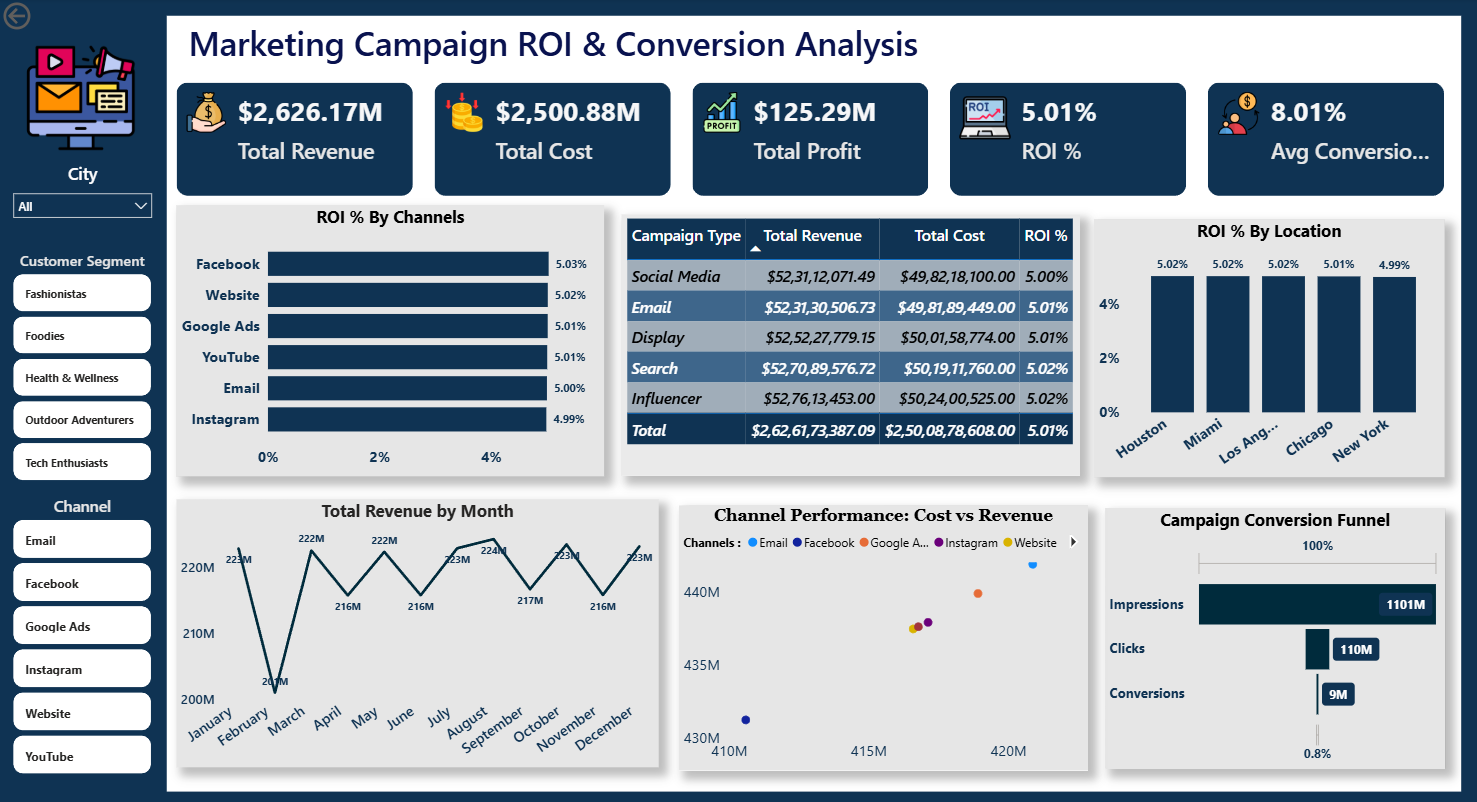

The page's visual inventory and layout, read from the dashboard file:
{"tool":"powerbi","page":{"name":"Page 1","canvas":[1650,900],"ordinal":0},"visuals":[{"type":"shape","box":[187.1,20,1441.4,864.3],"z":0},{"type":"cardVisual","fields":{"Data":["public fact_marketing.Total Revenue","public fact_marketing.Total Cost","public fact_marketing.Total Profit","public fact_marketing.ROI %","public fact_marketing.Avg Conversion Rate %"]},"box":[166,82,1476,150],"z":1000},{"type":"actionButton","box":[0,0,100,40],"z":2000},{"type":"advancedSlicerVisual","title":"Channel","fields":{"Values":["public dim_channel.channel_used"]},"box":[11.7,553.3,163.3,320],"z":3000},{"type":"textbox","box":[42.5,20,1147.5,60],"z":4000},{"type":"group","id":"g1","title":"Group 1","box":[198.4,231.7,475.7,301.4],"z":5000,"group":"g2"},{"type":"clusteredBarChart","title":"ROI % By Channels","fields":{"Category":["public dim_channel.channel_used"],"Y":["public fact_marketing.ROI % for channel"]},"box":[198.4,231.7,475.7,301.4],"z":5000,"group":"g1"},{"type":"advancedSlicerVisual","title":"Customer Segment","fields":{"Values":["public dim_customer_segment.customer_segment"]},"box":[11.7,281.7,163.3,261.7],"z":5000},{"type":"group","id":"g2","title":"Group 7","box":[197.8,231.7,1412,628.9],"z":6000},{"type":"group","id":"g3","title":"Group 2","box":[197.8,558.9,536.7,298.3],"z":6000,"group":"g2"},{"type":"slicer","title":"City","fields":{"Values":["public dim_location.location"]},"box":[5,181.7,175,100],"z":7000},{"type":"tableEx","fields":{"Values":["public dim_campaign.campaign_type","public fact_marketing.Total Revenue","public fact_marketing.Total Cost","public fact_marketing.ROI %"]},"box":[692.6,241.7,510,291.4],"z":7000,"group":"g2"},{"type":"lineChart","fields":{"Y":["public fact_marketing.Total Revenue"],"Category":["public dim_date.date.Variation.Date Hierarchy.Month"]},"box":[197.8,558.9,536.7,298.3],"z":7000,"group":"g3"},{"type":"image","box":[25,40,131.7,136.7],"z":7001},{"type":"clusteredColumnChart","title":"ROI % By Location","fields":{"Category":["public dim_location.location"],"Y":["public fact_marketing.ROI %"]},"box":[1219.8,247.2,390,287.1],"z":8000,"group":"g5"},{"type":"group","id":"g4","title":"Group 3","box":[1231.1,568.9,378.3,290],"z":8000,"group":"g2"},{"type":"group","id":"g5","title":"Group 4","box":[1219.8,247.2,390,287.1],"z":9000,"group":"g2"},{"type":"group","id":"g6","title":"Group 6","box":[756.5,565.6,455,295],"z":10000,"group":"g2"},{"type":"scatterChart","title":"Channel Performance: Cost vs Revenue","fields":{"X":["public fact_marketing.Total Cost"],"Series":["public fact_marketing.channel_used"],"Y":["public fact_marketing.Total Revenue"]},"box":[756.5,565.6,455,295],"z":11000,"group":"g6"},{"type":"funnel","title":"Campaign Conversion Funnel","fields":{"Y":["public fact_marketing.Total Impressions","public fact_marketing.Total Clicks","public fact_marketing.Total Conversions"]},"box":[1231.1,568.9,378.3,290],"z":11000,"group":"g7"},{"type":"group","id":"g7","title":"Group 5","box":[1231.1,568.9,378.3,290],"z":11003,"group":"g4"}]}

Visuals, with their boxes in screenshot pixels (x1, y1, x2, y2), scaled from the page's 1650x900 canvas onto the 1477x802 screenshot:
shape: rect(167, 18, 1458, 788)
cardVisual - public fact_marketing.Total Revenue x public fact_marketing.Total Cost: rect(149, 73, 1470, 207)
actionButton: rect(0, 0, 90, 36)
"Channel" advancedSlicerVisual: rect(10, 493, 157, 778)
textbox: rect(38, 18, 1065, 71)
"Group 1" group: rect(178, 206, 603, 475)
"ROI % By Channels" clusteredBarChart: rect(178, 206, 603, 475)
"Customer Segment" advancedSlicerVisual: rect(10, 251, 157, 484)
"Group 7" group: rect(177, 206, 1441, 767)
"Group 2" group: rect(177, 498, 657, 764)
"City" slicer: rect(4, 162, 161, 251)
tableEx - public dim_campaign.campaign_type x public fact_marketing.Total Revenue: rect(620, 215, 1077, 475)
lineChart - public fact_marketing.Total Revenue x public dim_date.date.Variation.Date Hierarchy.Month: rect(177, 498, 657, 764)
image: rect(22, 36, 140, 157)
"ROI % By Location" clusteredColumnChart: rect(1092, 220, 1441, 476)
"Group 3" group: rect(1102, 507, 1441, 765)
"Group 4" group: rect(1092, 220, 1441, 476)
"Group 6" group: rect(677, 504, 1084, 767)
"Channel Performance: Cost vs Revenue" scatterChart: rect(677, 504, 1084, 767)
"Campaign Conversion Funnel" funnel: rect(1102, 507, 1441, 765)
"Group 5" group: rect(1102, 507, 1441, 765)
